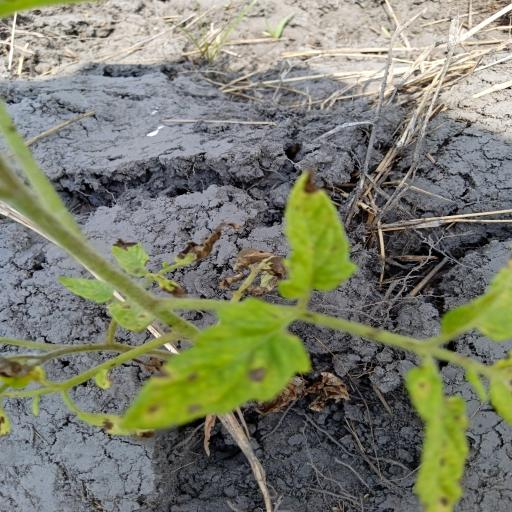Tomato_Brown_Spots: (106, 296, 307, 448)
